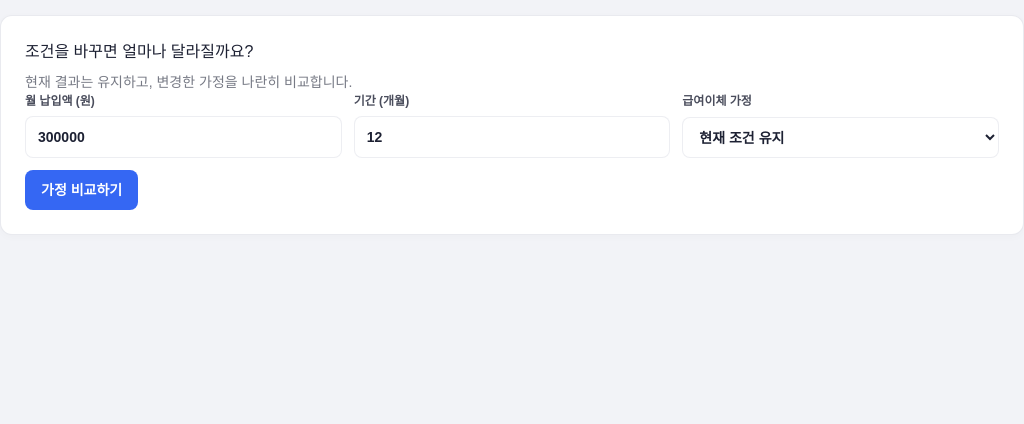
VeriFit 사용자 흐름 › 가정 비교는 프로필을 복사하고 원래 조건을 변경하지 않는다
The width and height of the screenshot is (1024, 424).
Select "가능하다고 가정" in the dropdown labelled "급여이체 가정" at (841, 138), box [682,117,999,158]
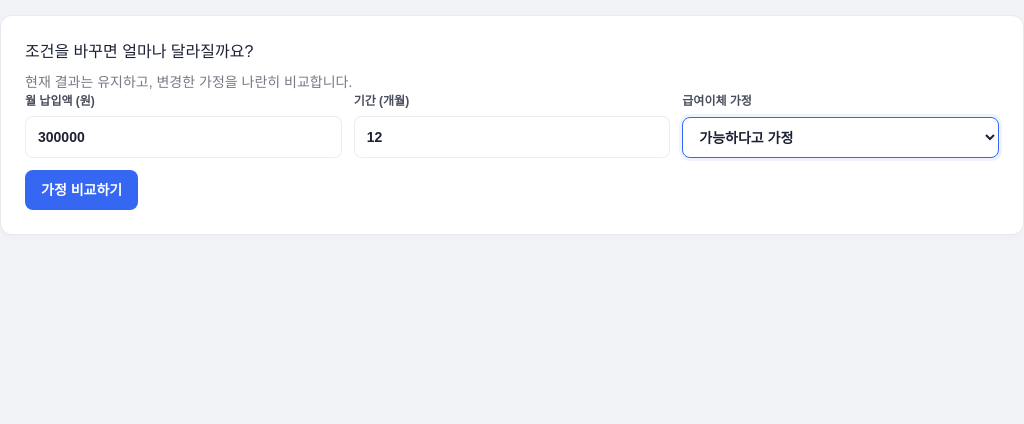
Click the button "가정 비교하기" at (82, 190), box [25,170,138,210]
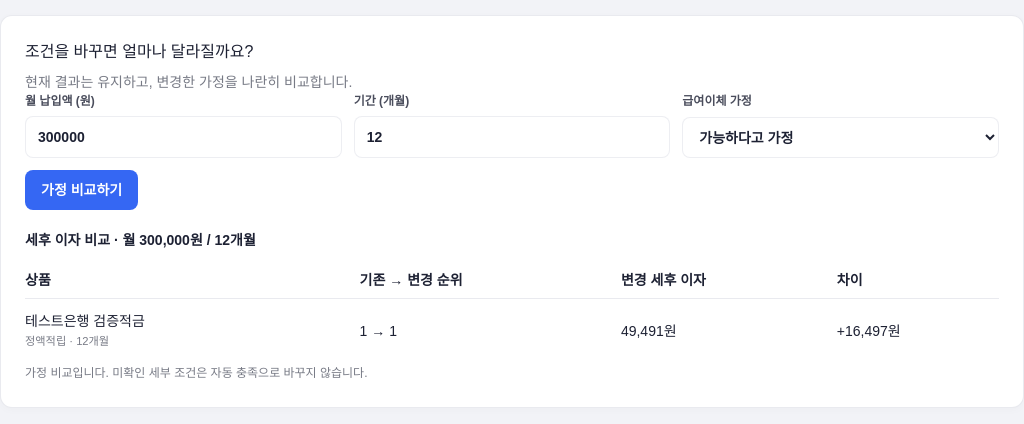
expect the text "+16,497원" is shown: met, box [837,298,999,363]
